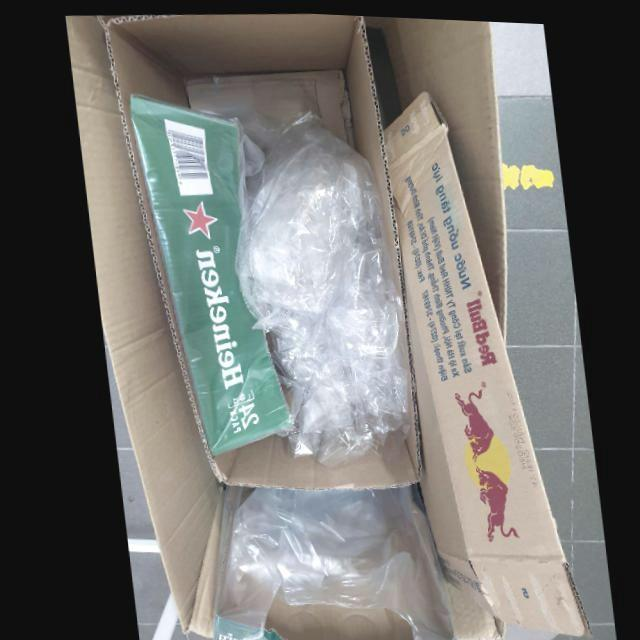cardboard: (105, 11, 413, 485), (379, 85, 583, 631)
plastic_bag: (231, 110, 410, 460)
